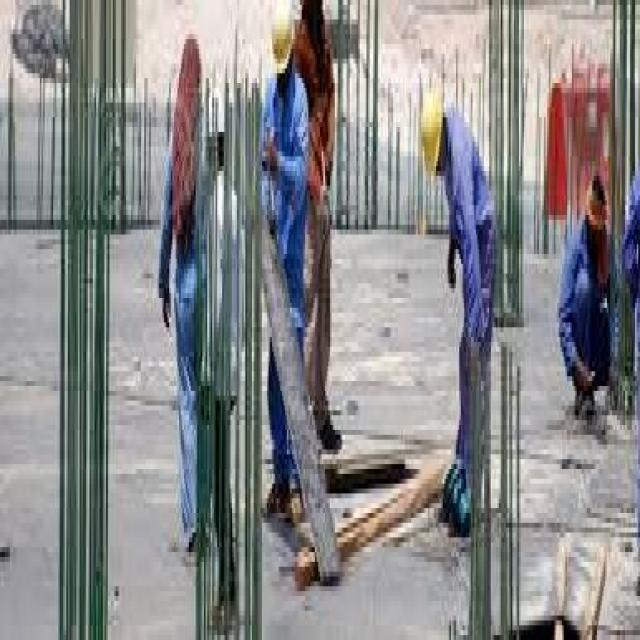Reflective-Jacket: (441, 108, 501, 284)
Safety-Helmet: (411, 58, 451, 185), (618, 151, 640, 303), (266, 0, 304, 88), (578, 161, 614, 244)
